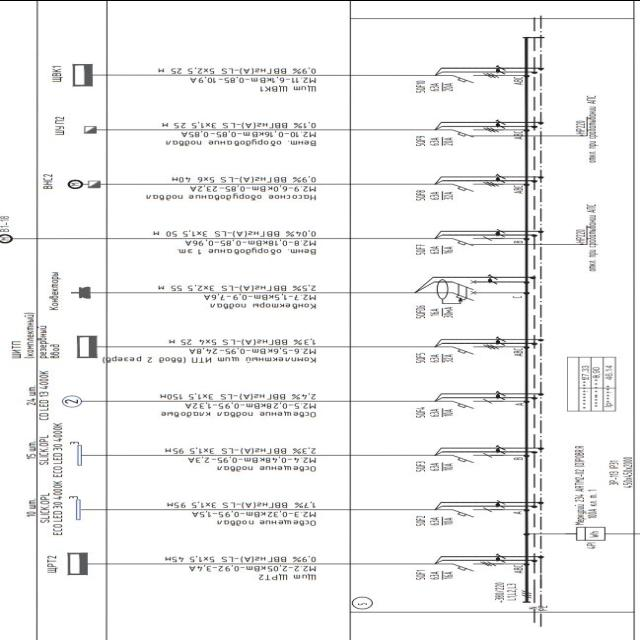-: (572, 443, 598, 526), (603, 456, 635, 488), (428, 243, 454, 256), (428, 190, 454, 202), (429, 80, 455, 92), (428, 135, 454, 147), (428, 514, 454, 526), (430, 352, 456, 364), (428, 460, 454, 472), (429, 569, 455, 581), (428, 306, 453, 318), (428, 406, 453, 418)
QF: (452, 180, 500, 193), (451, 342, 499, 355), (450, 559, 498, 572), (452, 72, 499, 85), (451, 125, 498, 138), (450, 505, 496, 518), (449, 234, 495, 247), (448, 451, 494, 464), (448, 397, 493, 410)
QFD: (434, 276, 498, 306)
